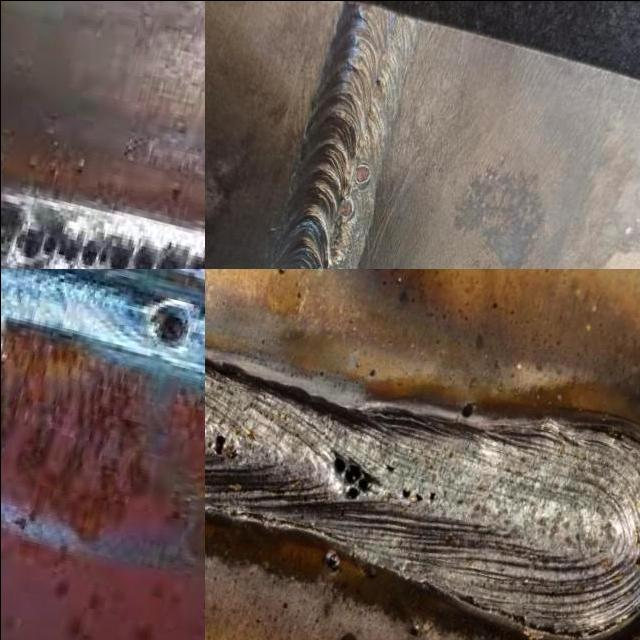defect: (6, 219, 204, 268), (141, 291, 195, 357), (328, 446, 384, 503), (396, 483, 437, 506), (351, 156, 373, 186), (333, 192, 353, 221), (204, 431, 226, 457), (457, 400, 474, 418), (370, 71, 383, 87), (383, 460, 394, 472)
